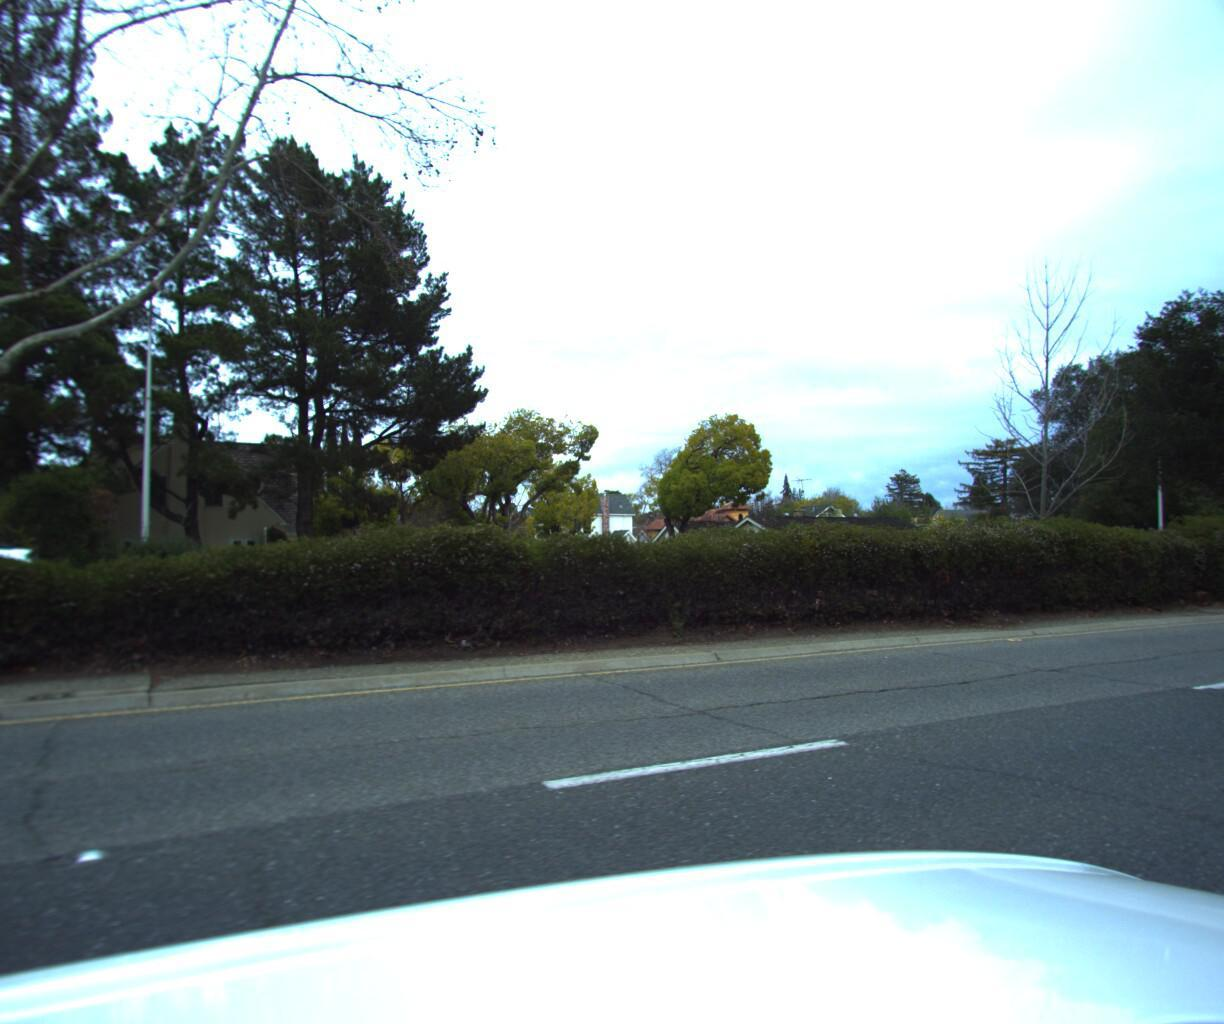car: (0, 530, 94, 630)
